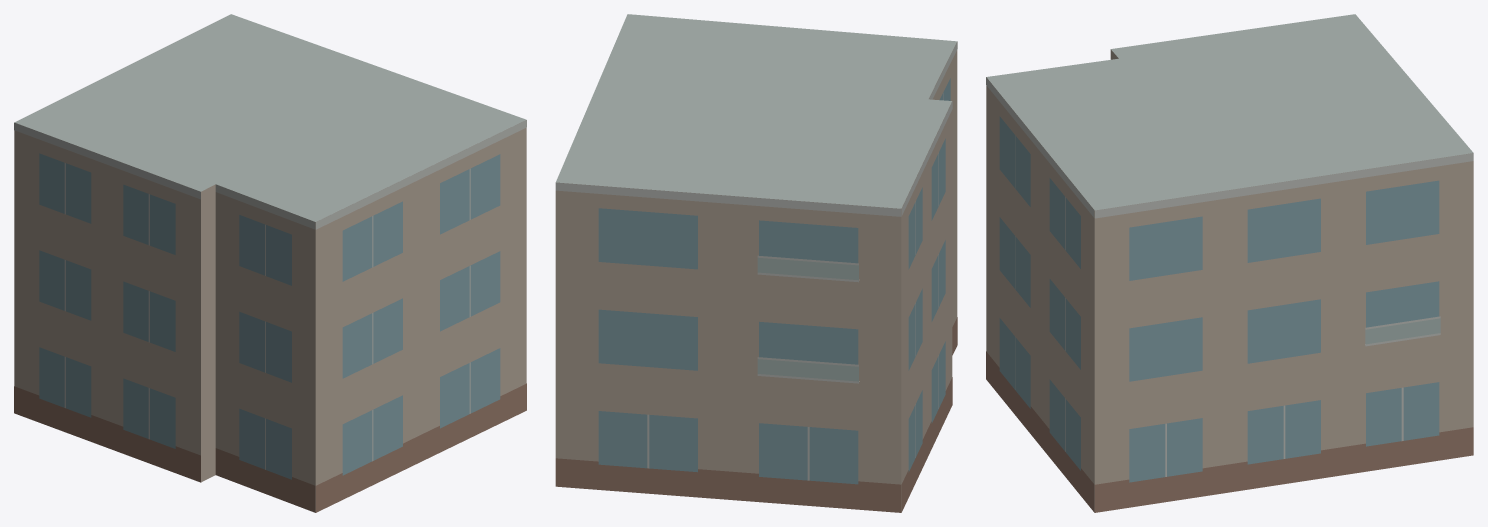
Rendered from survey-upis-33033530.glb.
3 views of the same model, side by side, from view 1: azimuth 30°, elevation 25°; view 2: azimuth 150°, elevation 25°; view 3: azimuth 270°, elevation 25° (orthographic). The views are drawn at different scales.
Parts seen in each view (by area): view 1: survey-upis-33033530.tmp; view 2: survey-upis-33033530.tmp; view 3: survey-upis-33033530.tmp.
Part boxes in pixels (<box>): survey-upis-33033530.tmp: <box>14,14,526,512</box>; survey-upis-33033530.tmp: <box>555,14,957,512</box>; survey-upis-33033530.tmp: <box>986,14,1473,512</box>.
Bounding box in the file's own units: 12.76 × 9.15 × 13.38.
